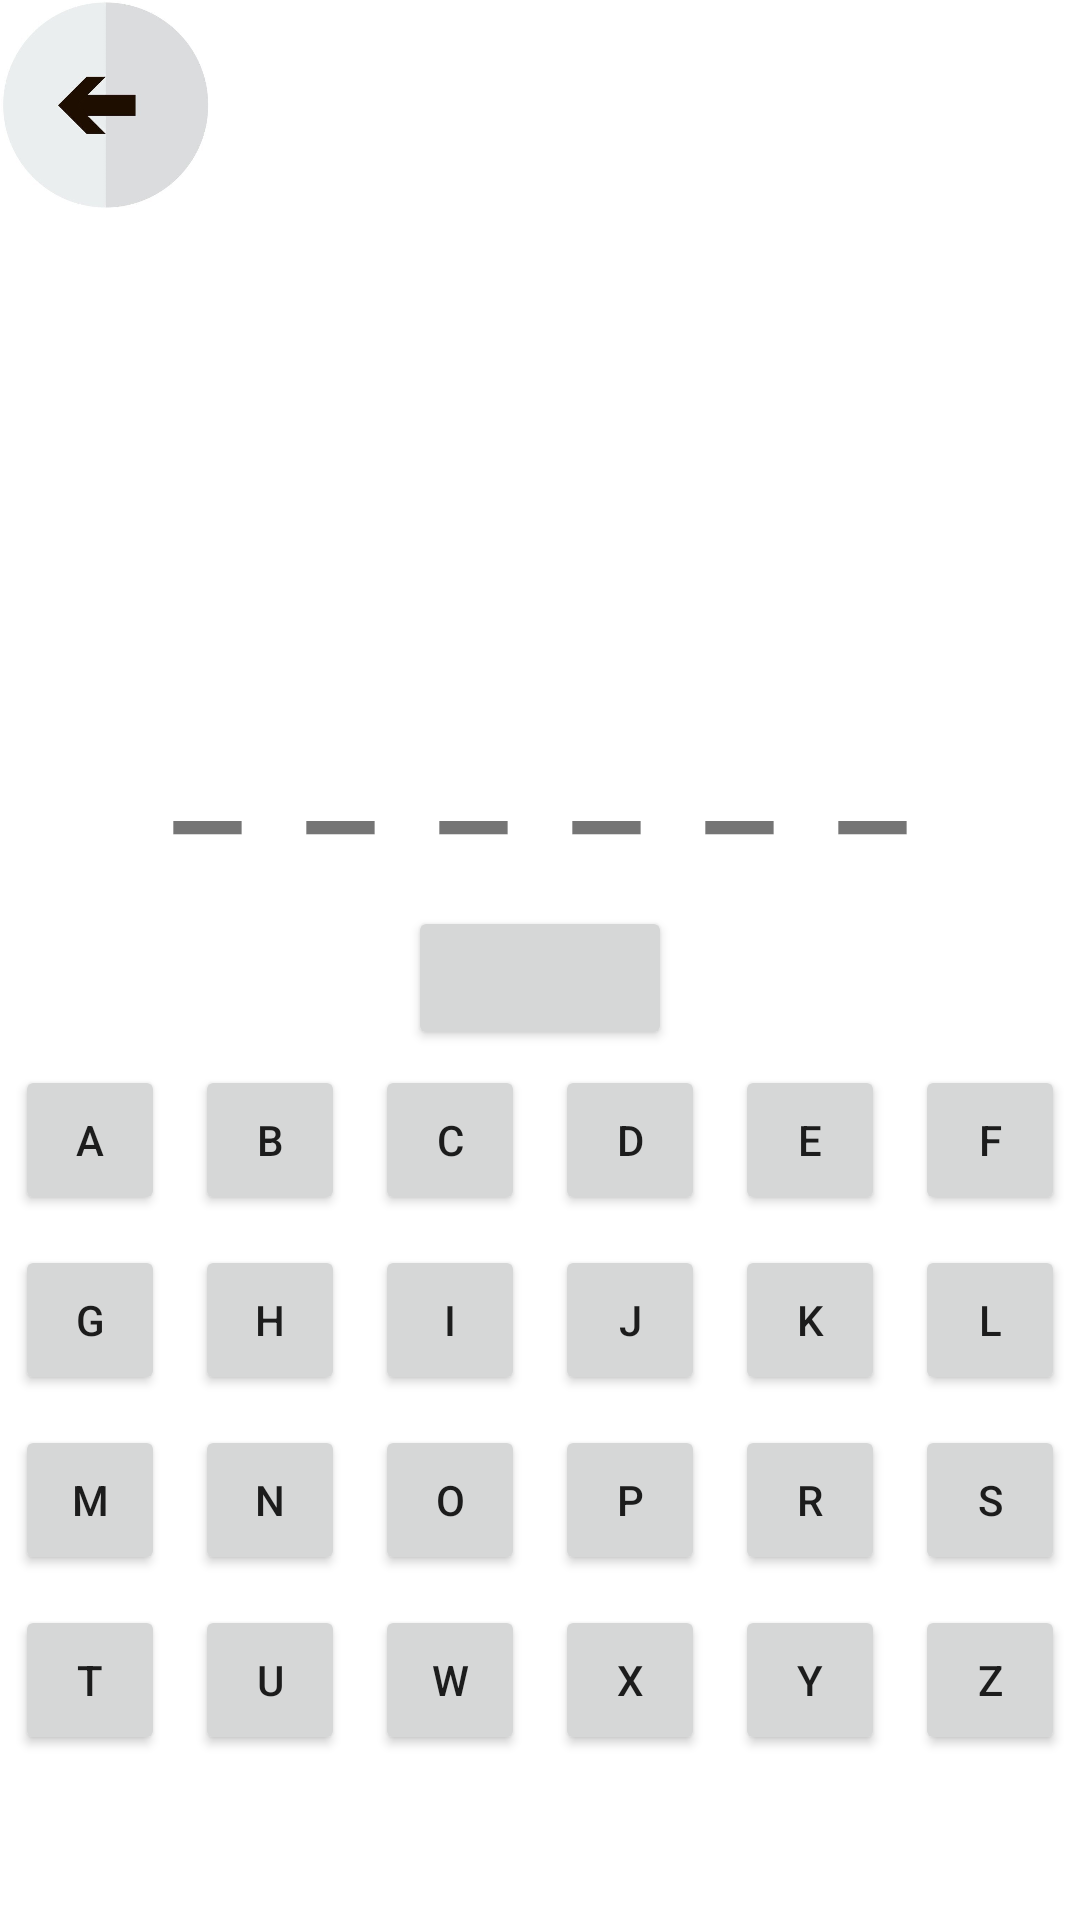

Point at icon controls on the screen. Image size 1080x1920, points as (x=x, y=y).
arrow: (x=132, y=105)
